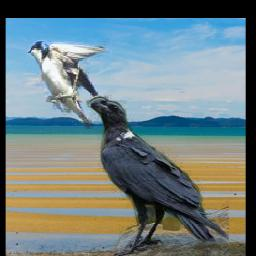Crow: (86, 96, 229, 256)
Swallow: (26, 37, 112, 129)
